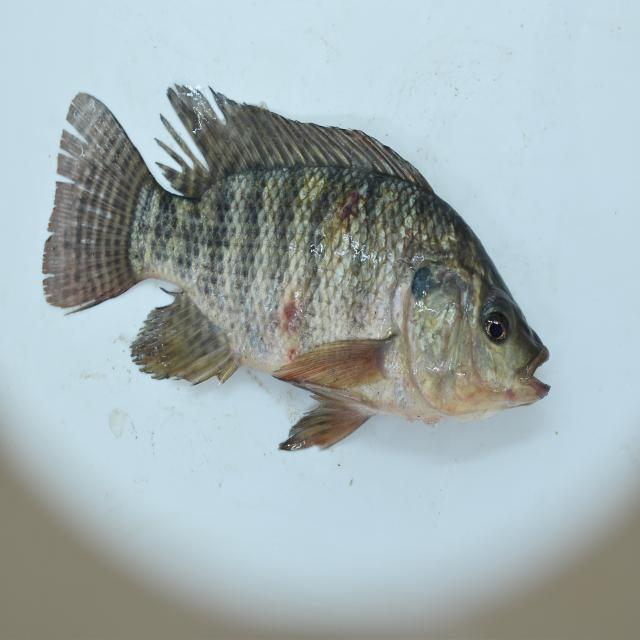Columnaris Disease: (42, 61, 562, 466)
